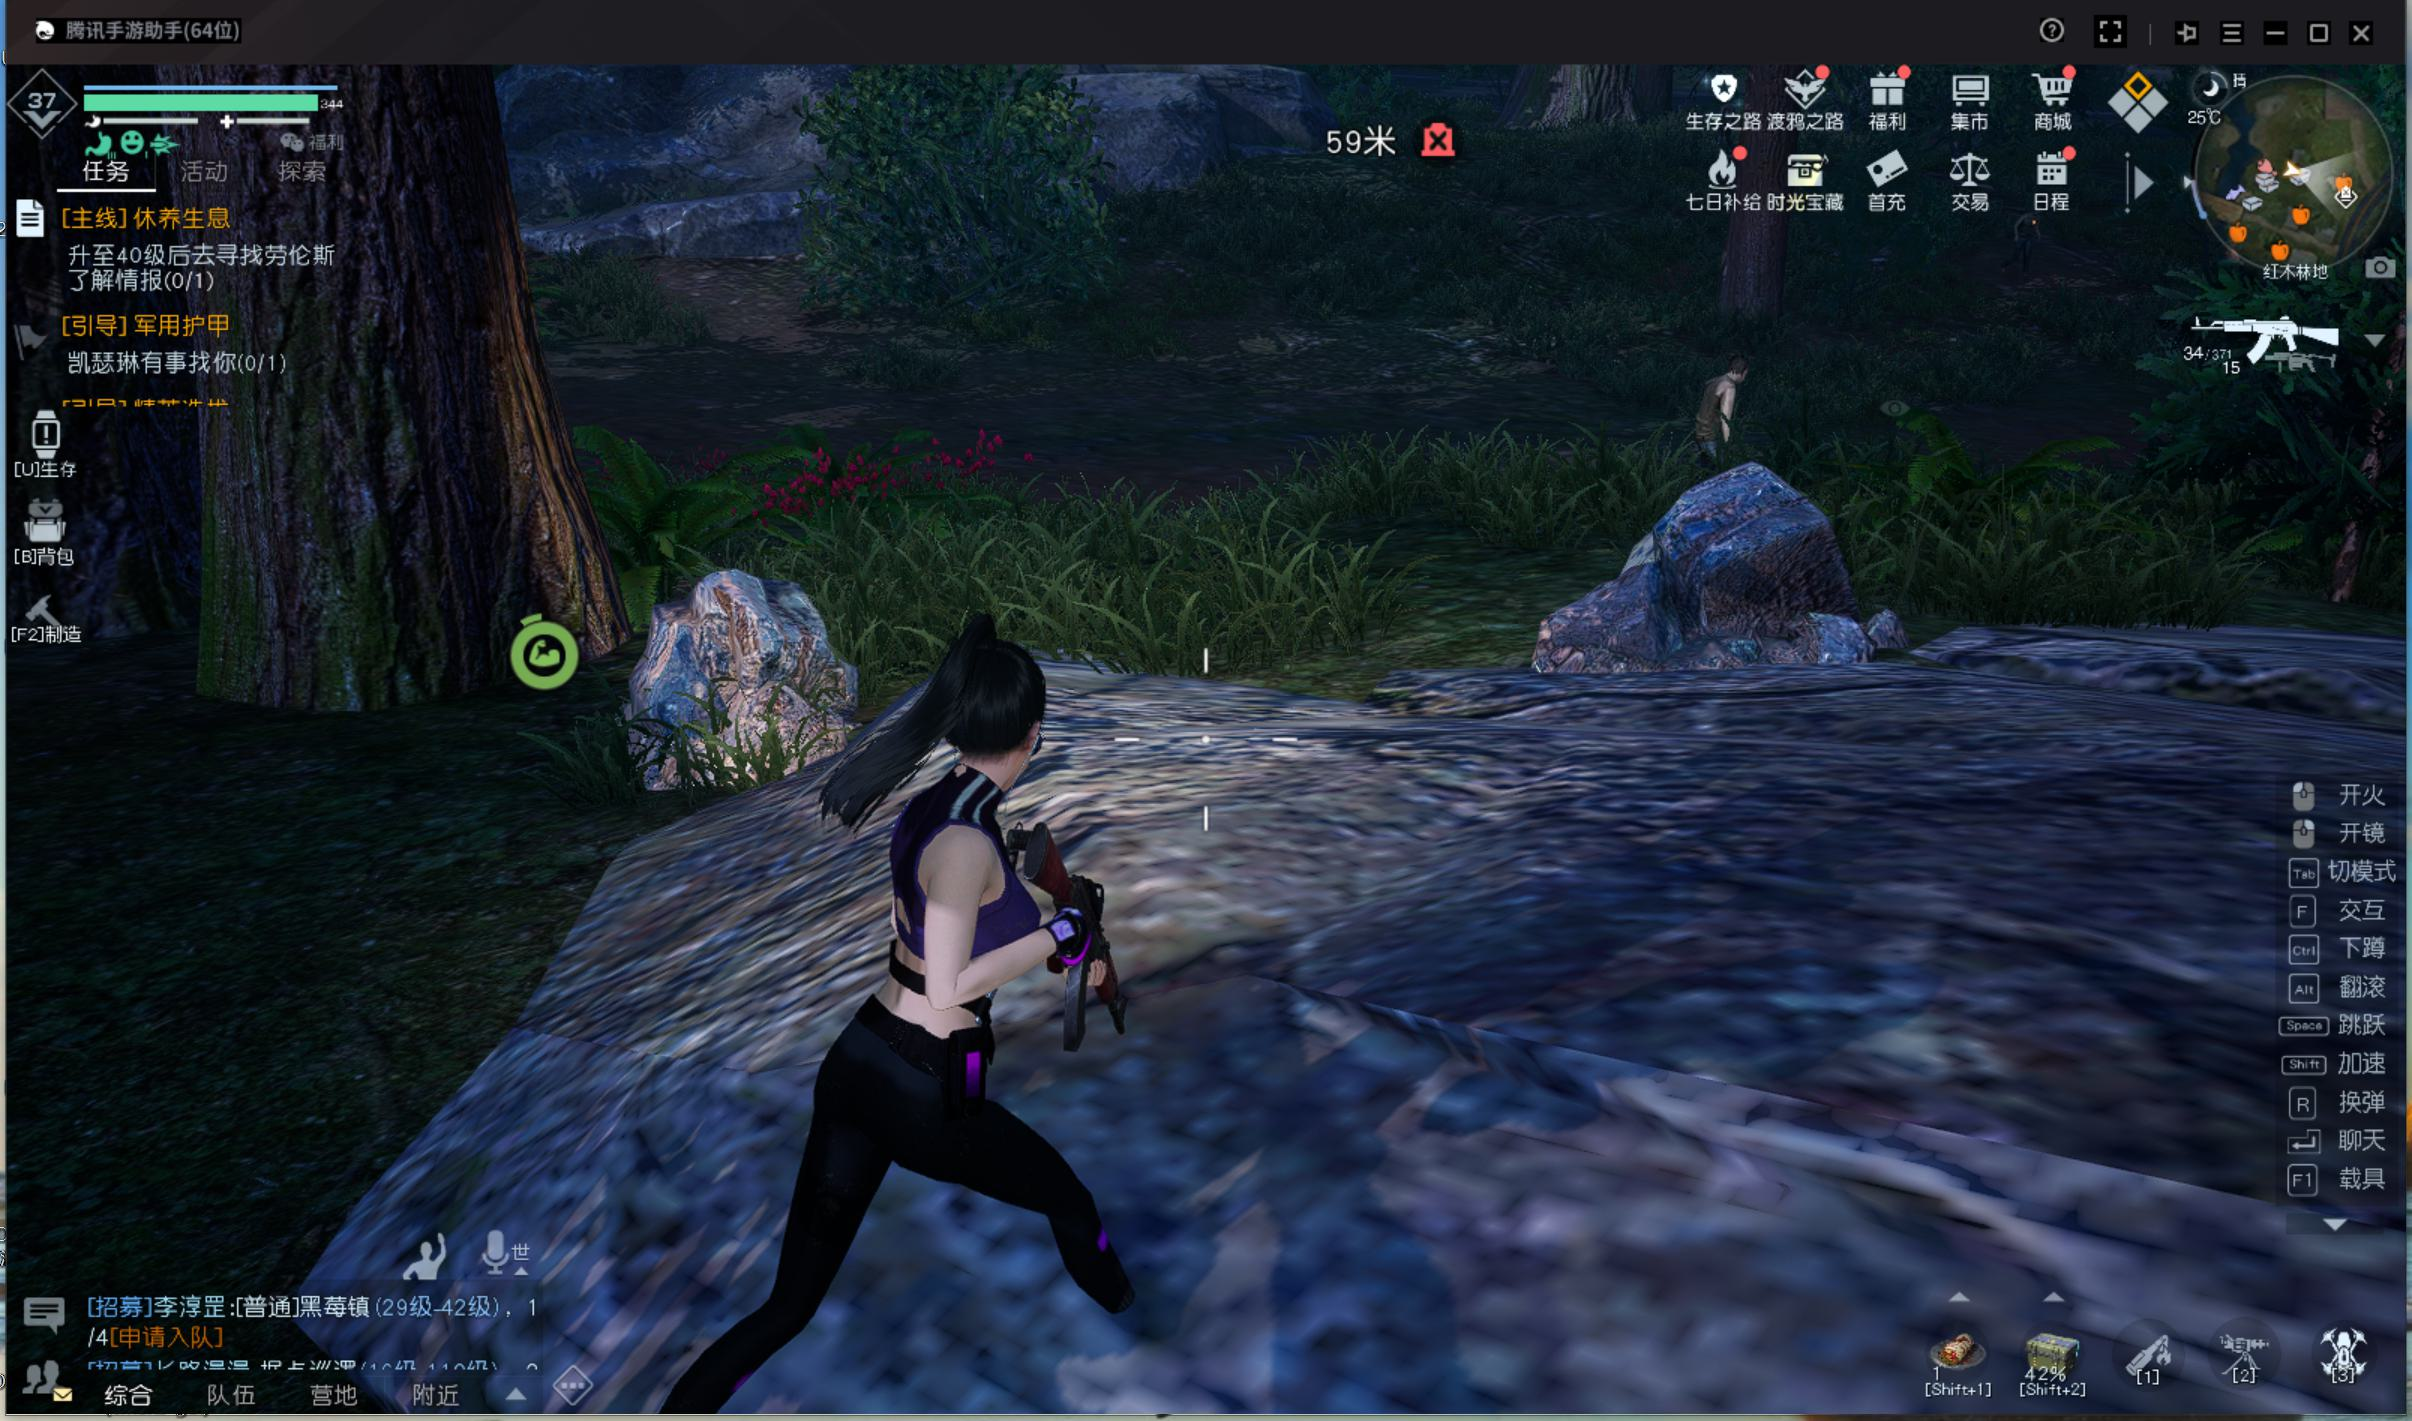stone: (1544, 391, 1911, 724), (578, 536, 866, 798)
tree: (157, 85, 582, 604)
